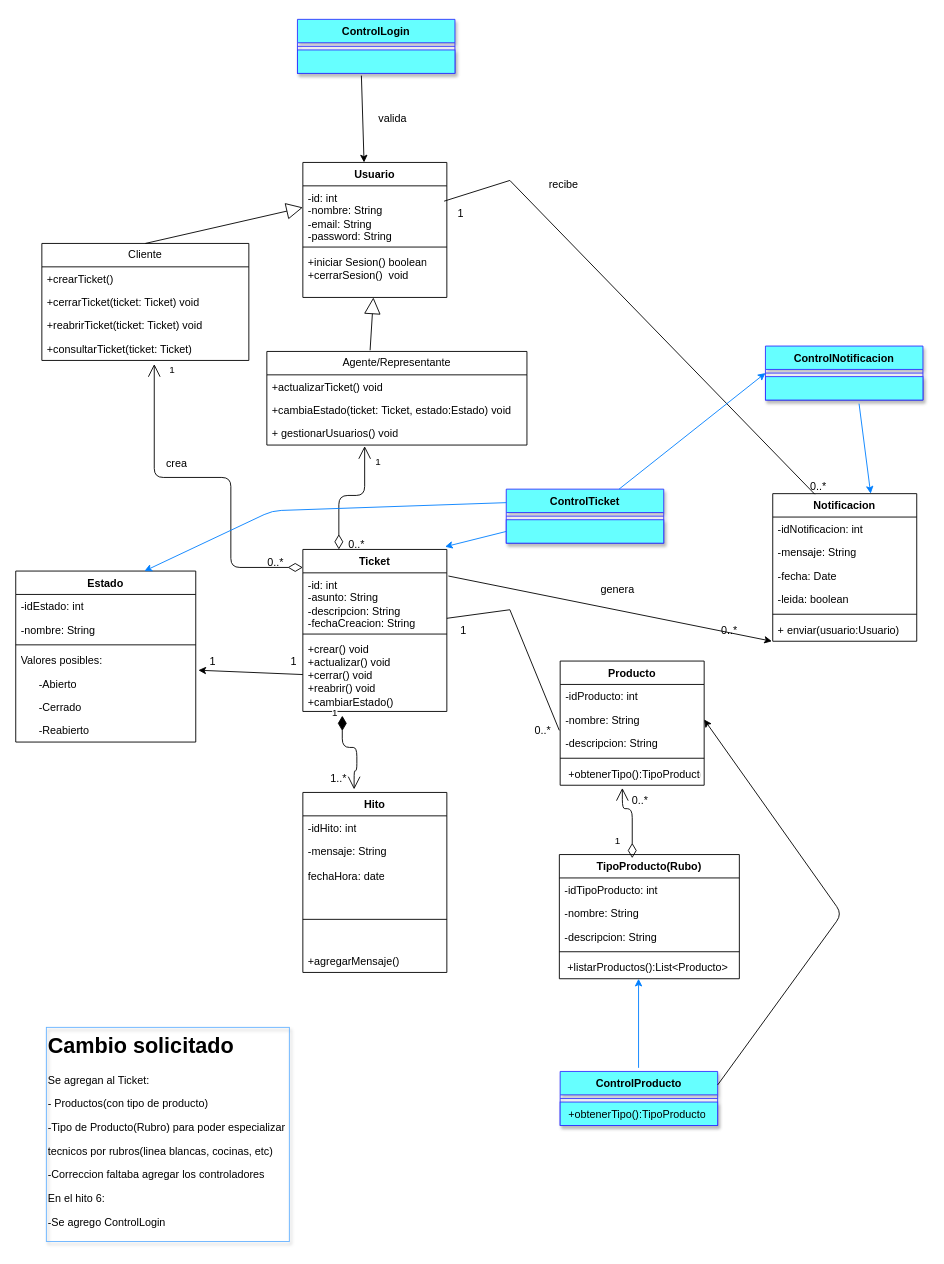
Image size: 944x1264. Some labels were removed from this diagram. Here are the shapes that lost their labels. From the top down, the centre of each, then its label:
the point at 376,62: +iniciarSesion()
the point at 844,389: +generarNotificacion()
the point at 585,532: +cambiarEstado()
